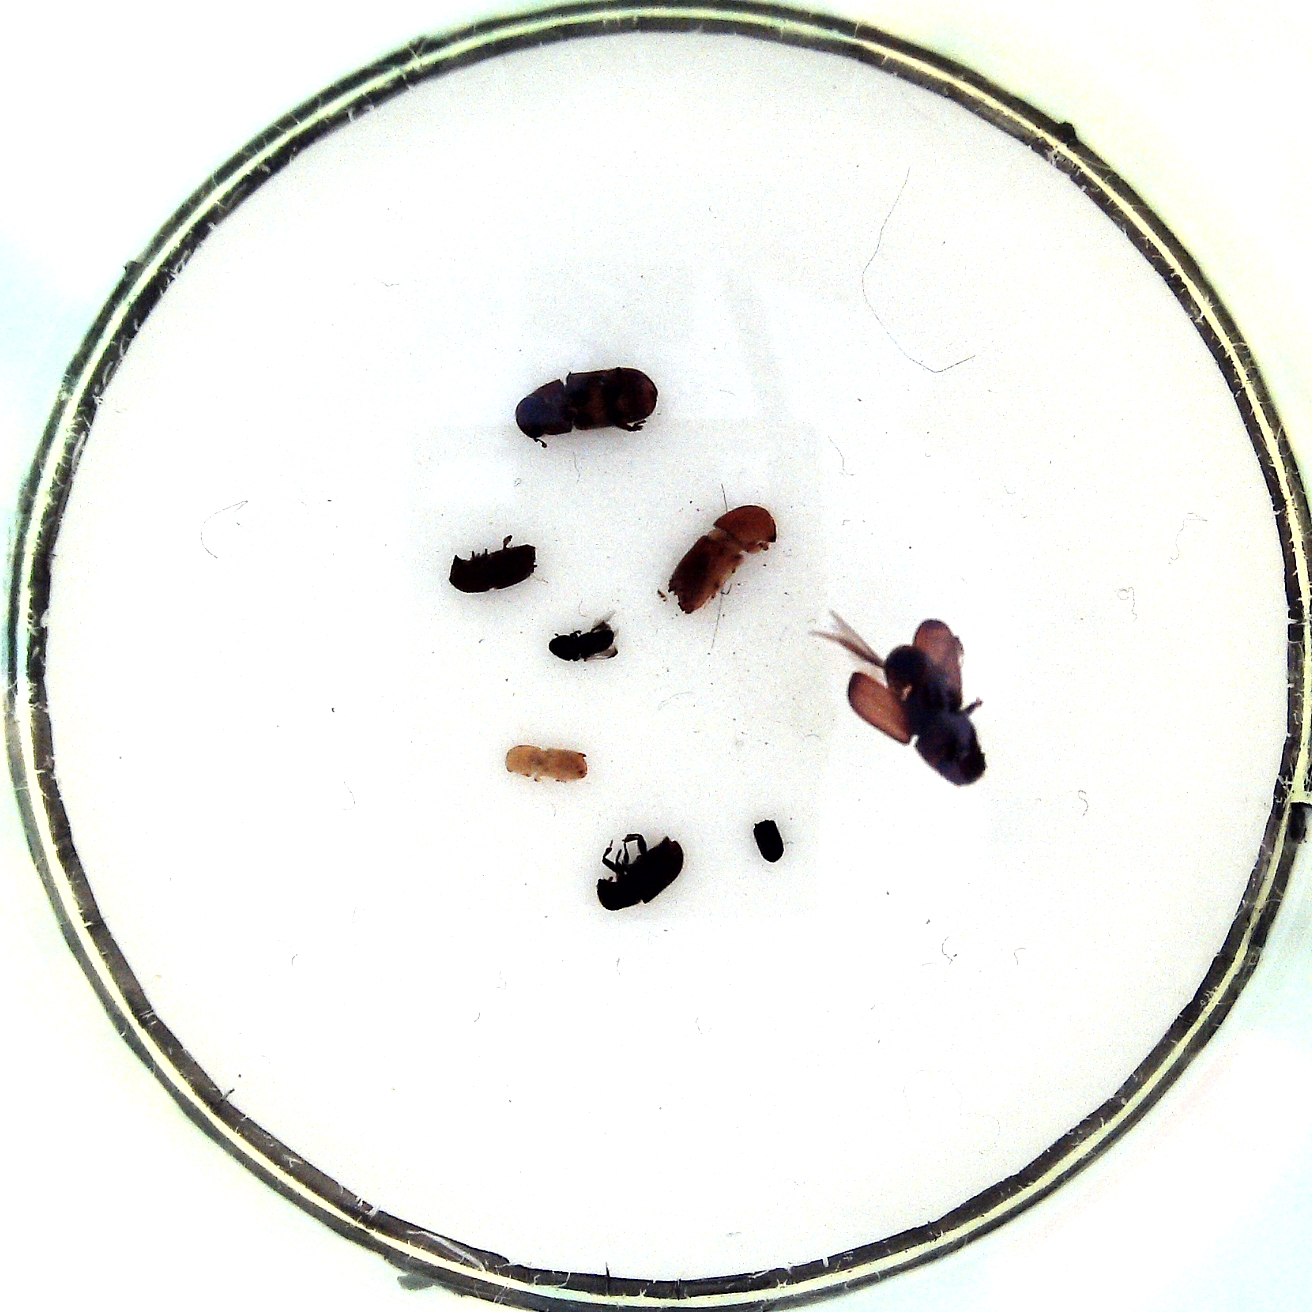Boerner: (658, 502, 782, 619)
Leconte: (805, 607, 994, 792), (507, 360, 661, 445)
Linnaeus: (447, 533, 539, 597)
acuminatus: (500, 738, 596, 786)
armandi: (588, 828, 687, 916)
coleoptera: (541, 607, 628, 668), (746, 812, 794, 866)
